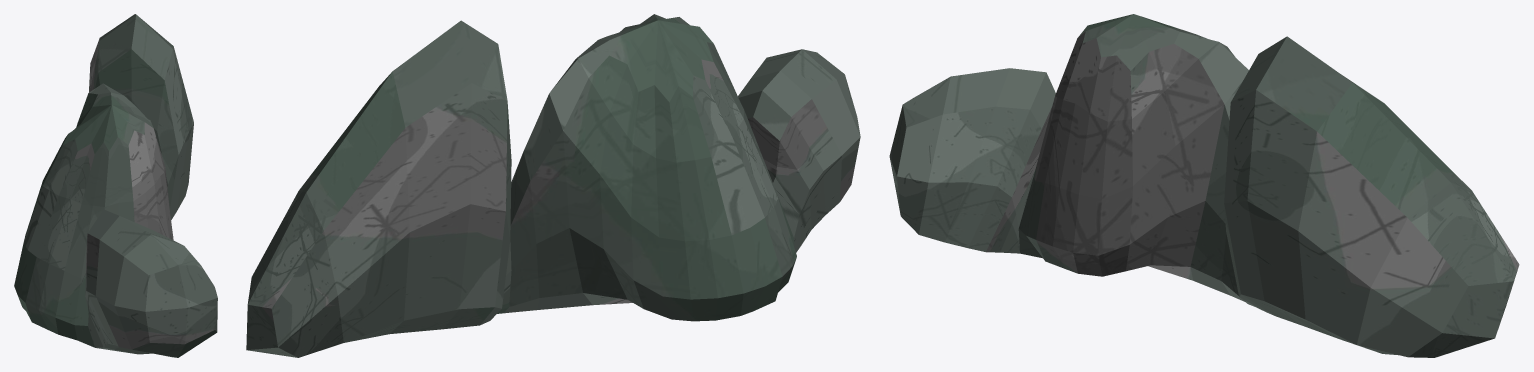
File: Rock Formation 2.fbx
3 views of the same model, side by side, from view 1: azimuth 30°, elevation 25°; view 2: azimuth 150°, elevation 25°; view 3: azimuth 270°, elevation 25° (orthographic). The views are drawn at different scales.
Parts seen in each view (by area): view 1: Cylinder; view 2: Cylinder; view 3: Cylinder.
Part boxes in pixels (x1,y1,x2,y2): Cylinder: (14, 14, 217, 357); Cylinder: (246, 14, 860, 357); Cylinder: (889, 14, 1519, 357).
Bounding box in the file's own units: 328 × 269 × 533.
